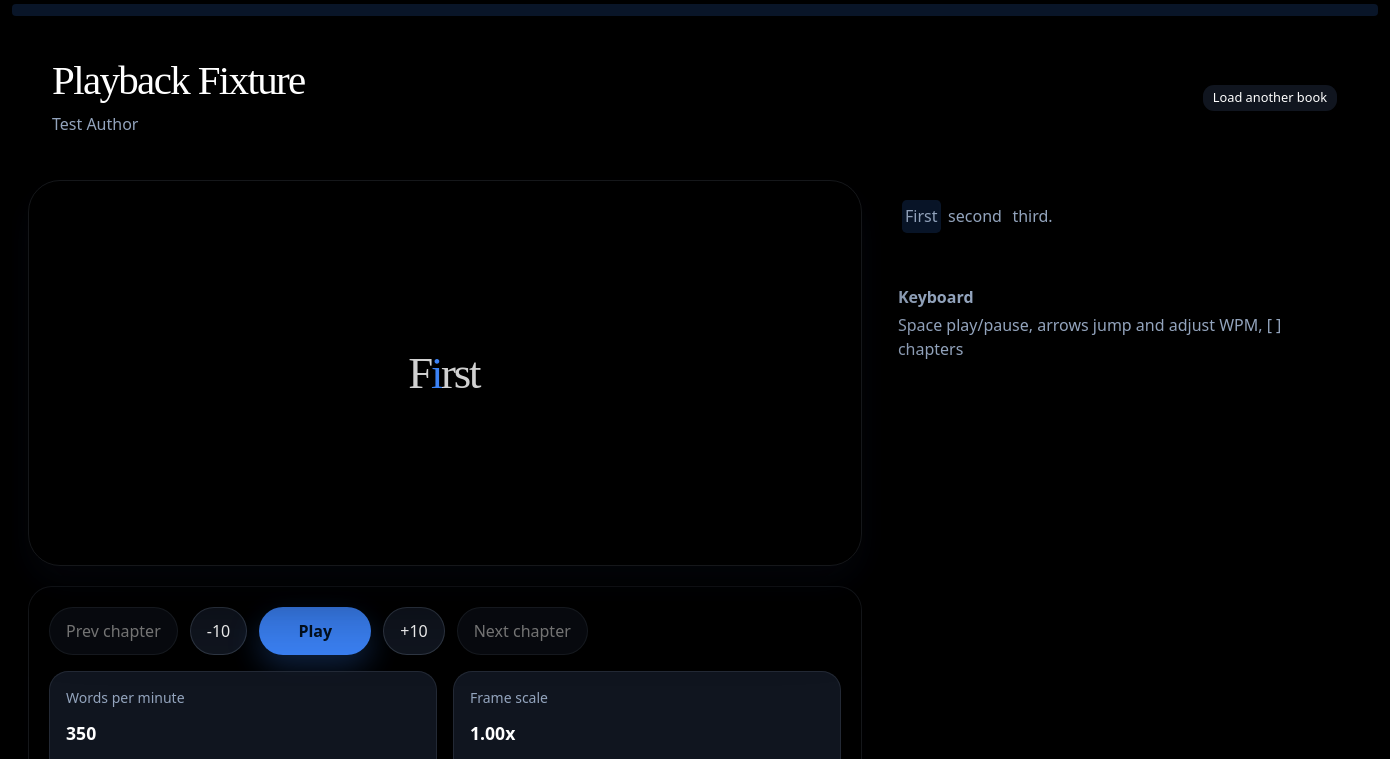
ReaderScreen playback › jumps to the clicked preview token
Click the button "third." at (1032,216), box [1009, 200, 1056, 233]
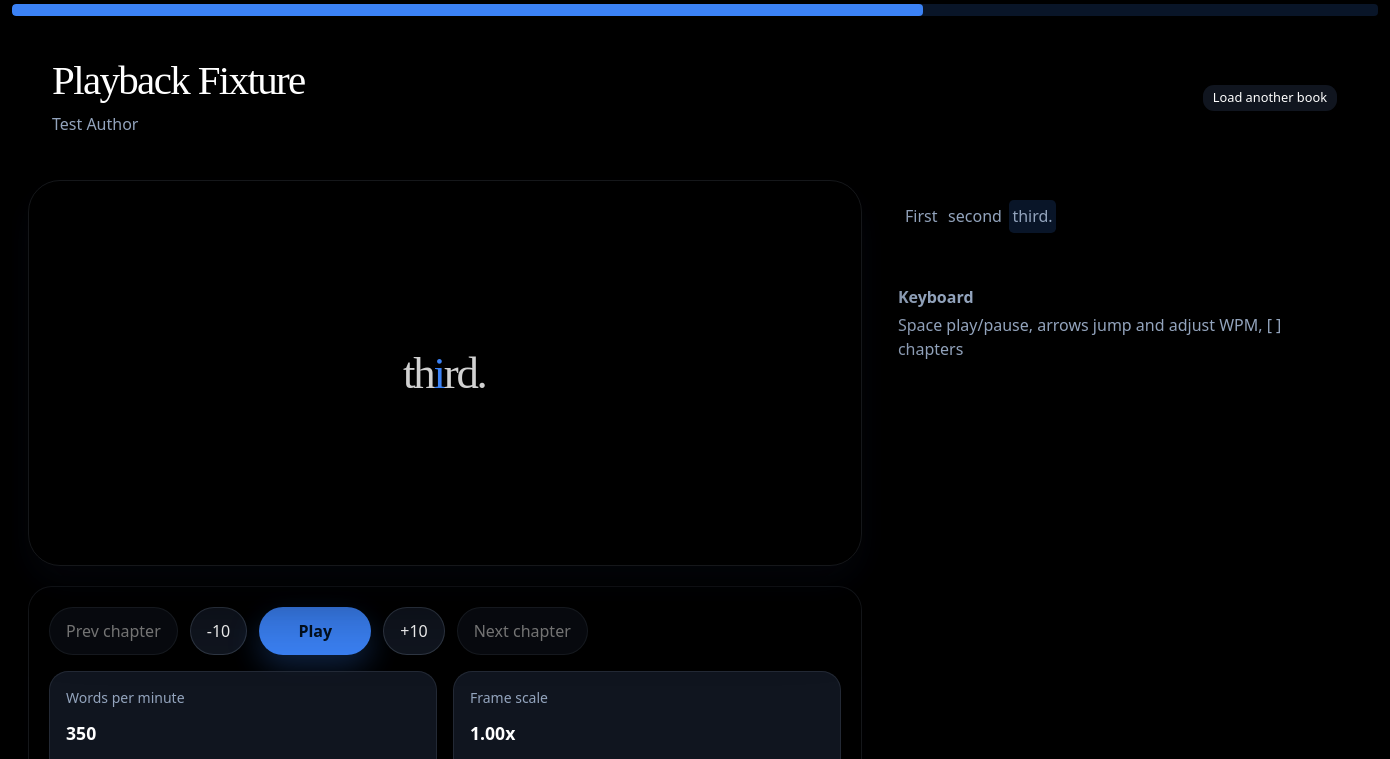
Result: the element titled "third." is shown at [403, 351, 486, 396]
